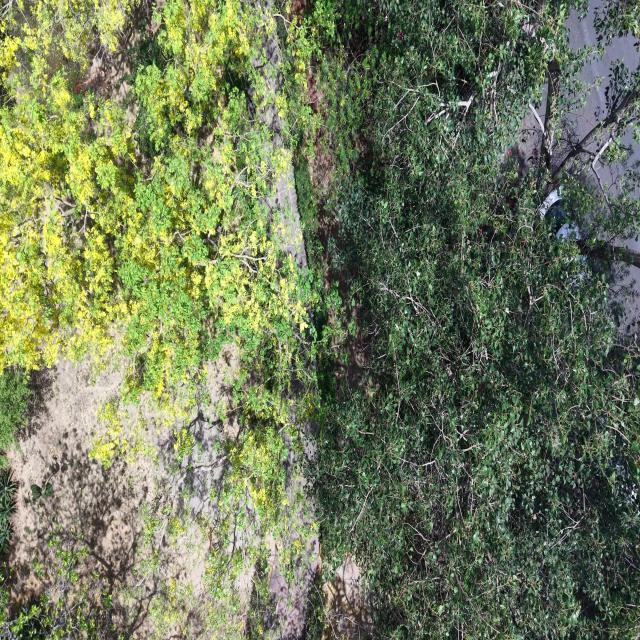DRY_AREA: (7, 348, 237, 638), (7, 350, 238, 638), (8, 361, 223, 638), (513, 35, 639, 179)
VEGETATION_TREE: (0, 0, 639, 639), (312, 2, 639, 638), (0, 0, 317, 634), (0, 2, 307, 398), (0, 532, 124, 639), (0, 368, 30, 554), (0, 368, 30, 459), (0, 469, 17, 554)
